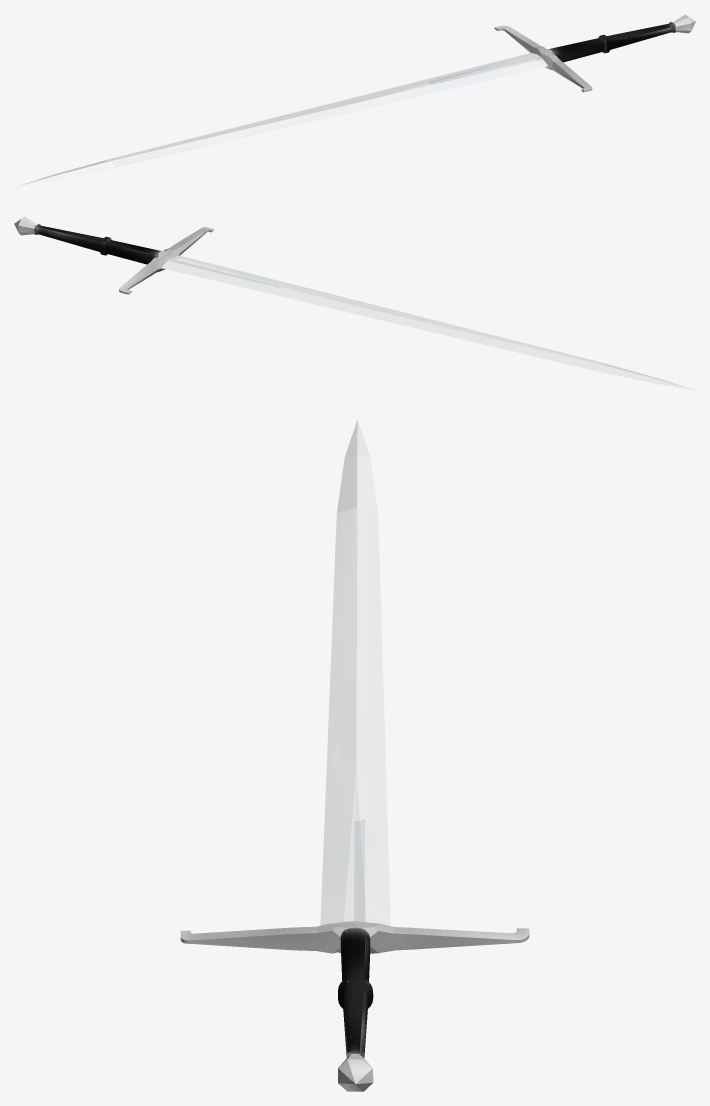
File: Sword.glb
The picture shows the model from 3 angles, top to bottom: view 1: azimuth 30°, elevation 25°; view 2: azimuth 150°, elevation 25°; view 3: azimuth 270°, elevation 25°; orthographic projection. The views are drawn at different scales.
Parts seen in each view (by area): view 1: Cube; view 2: Cube; view 3: Cube.
Boxes of the visible parts, box(x1,y1,x2,y2) form: Cube: box(15, 14, 695, 187); Cube: box(14, 216, 695, 390); Cube: box(180, 419, 529, 1091).
Bounding box in the file's own units: 50.46 × 1.15 × 11.17.
Materials: 1 (1 with a texture image).
